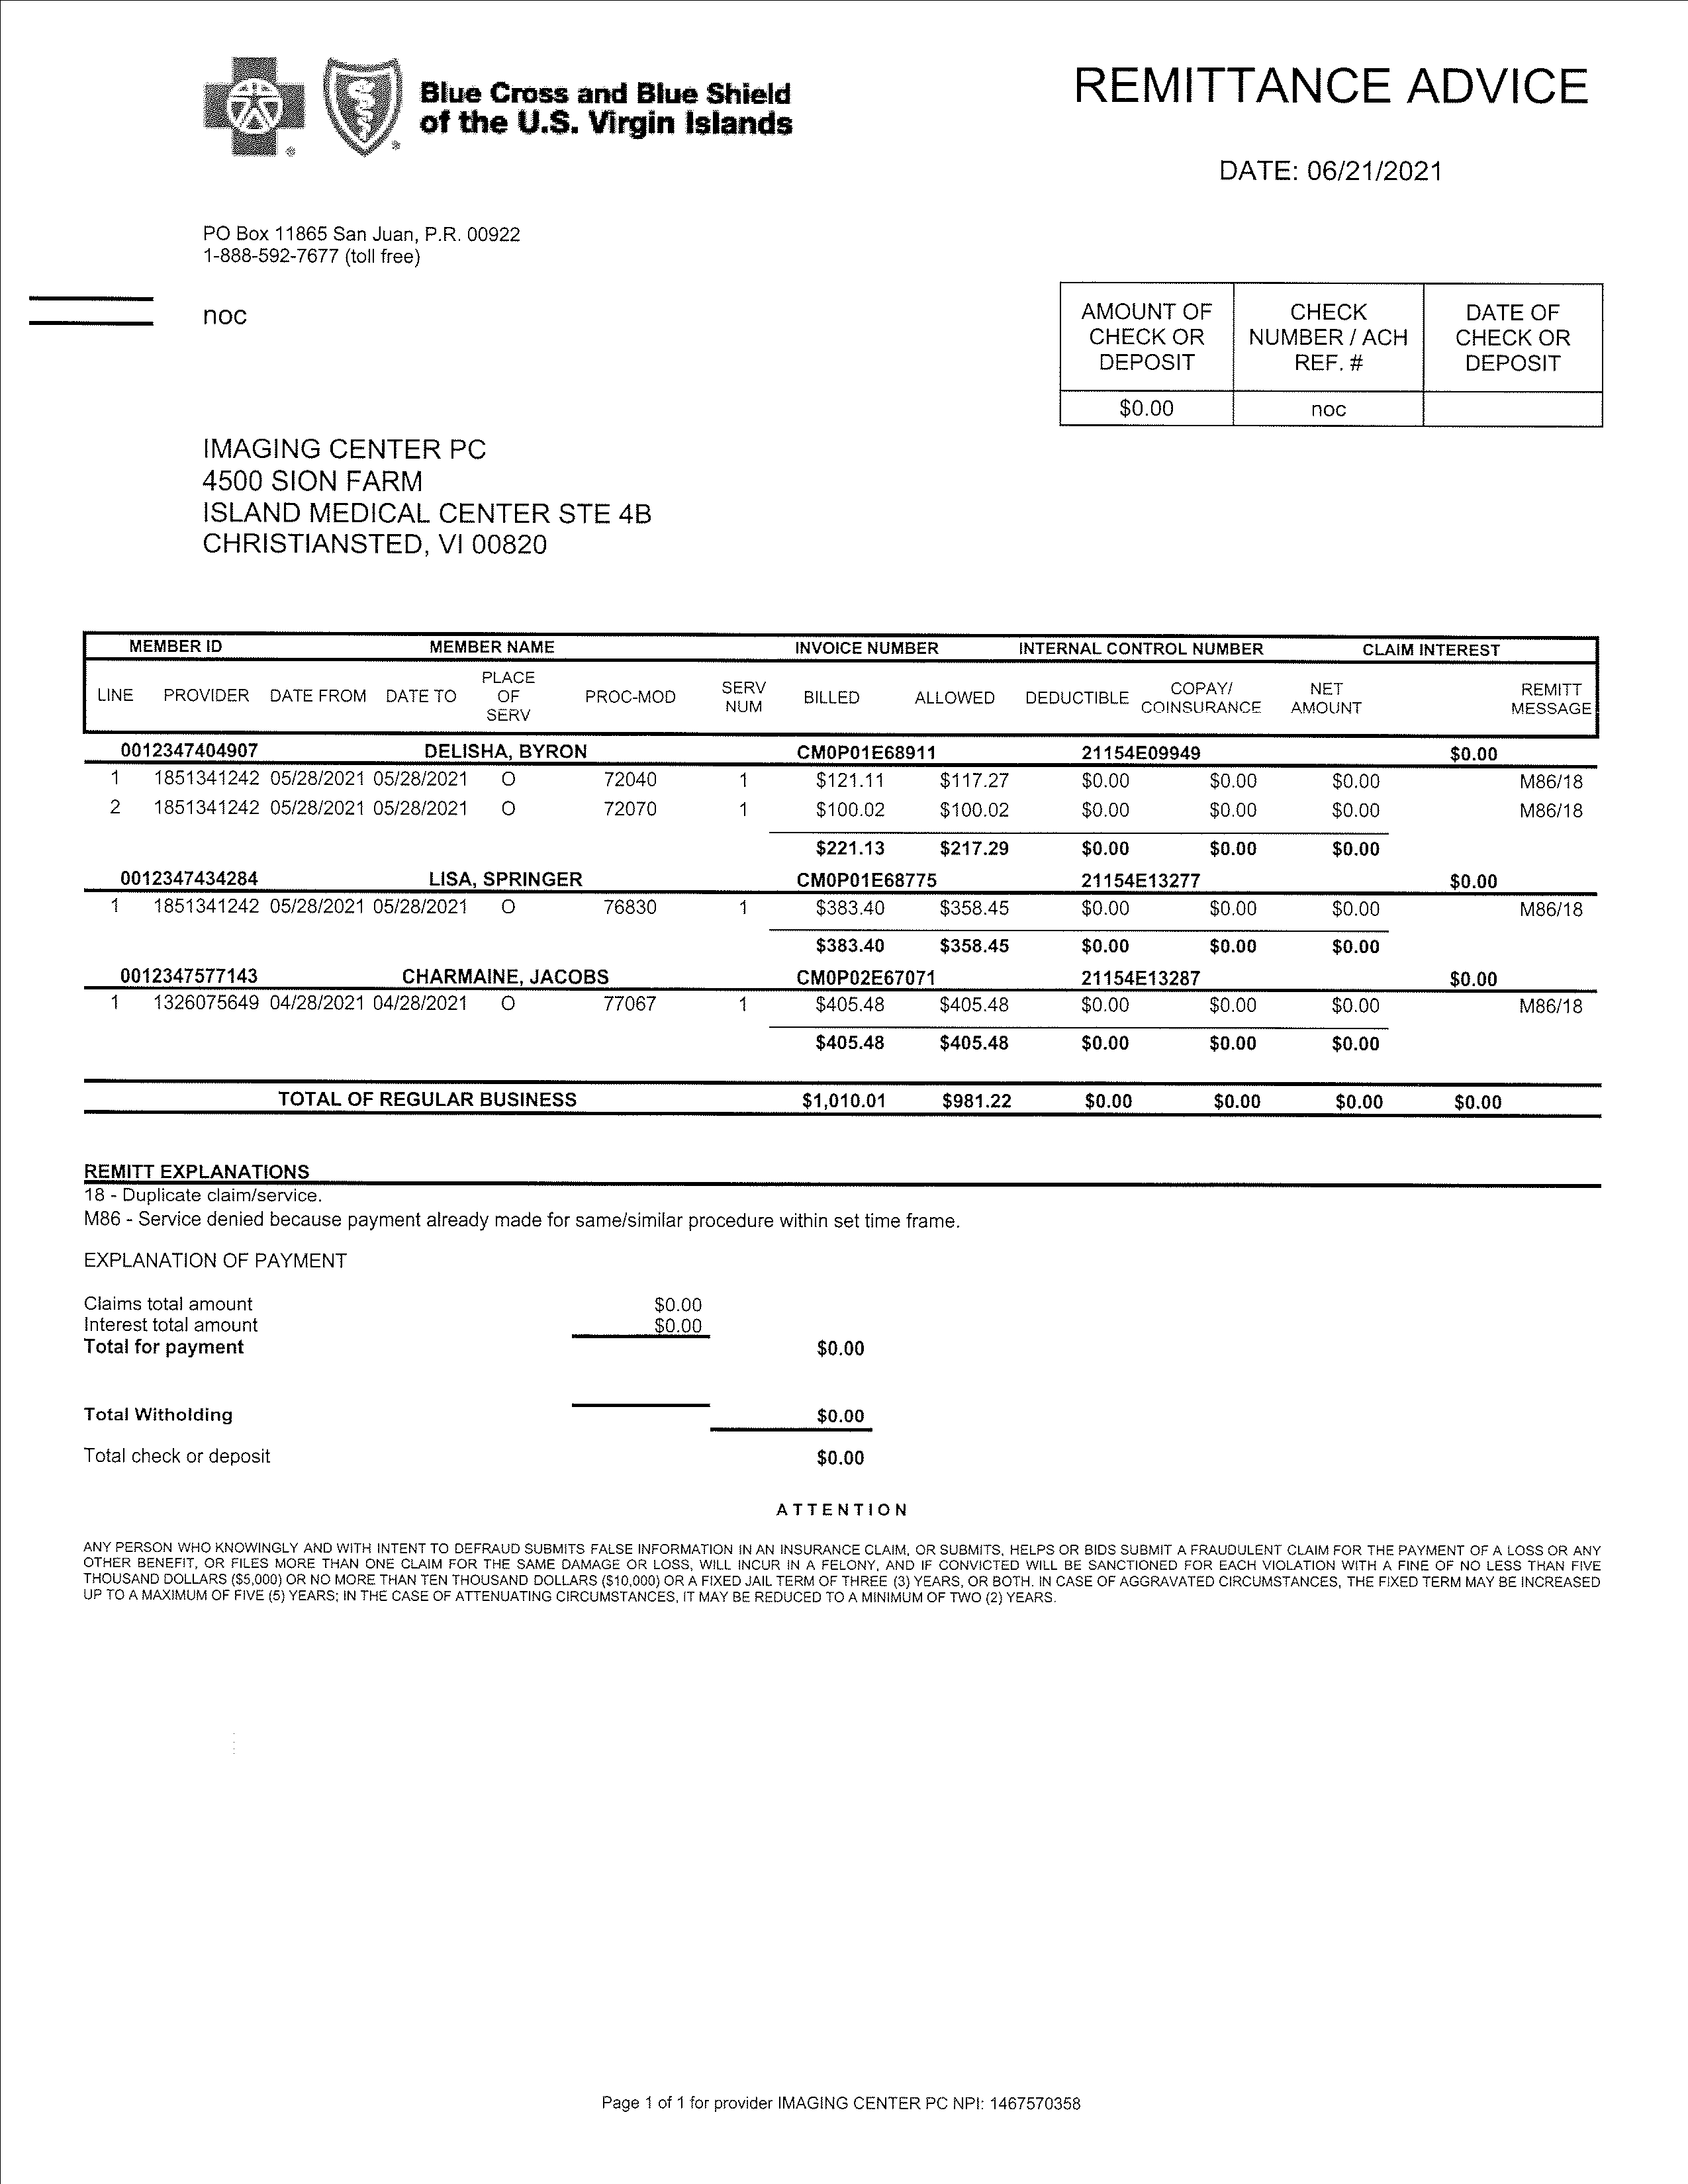table: (71, 613, 1606, 1133), (1050, 273, 1610, 436)
